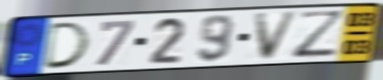2: (148, 16, 188, 65)
7: (96, 18, 138, 68)
9: (195, 13, 234, 65)
D: (41, 20, 93, 71)
V: (252, 9, 302, 63)
Z: (290, 10, 348, 61)
